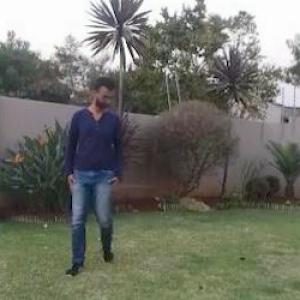follow: (57, 73, 122, 276)
